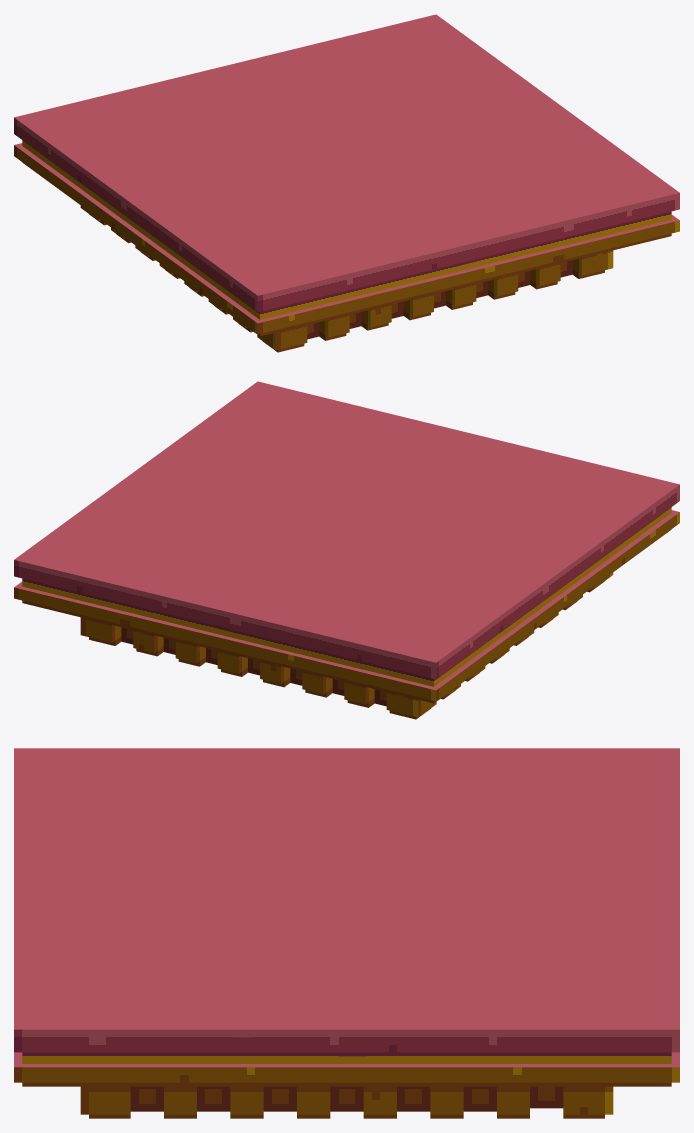
Rendered from mech_5x5ao.fezao.glb.
The picture shows the model from 3 angles, top to bottom: view 1: azimuth 30°, elevation 25°; view 2: azimuth 150°, elevation 25°; view 3: azimuth 270°, elevation 25°; orthographic projection. The views are drawn at different scales.
Parts seen in each view (by area): view 1: MECH_5x5AO; view 2: MECH_5x5AO; view 3: MECH_5x5AO.
Part boxes in pixels (box(x1,y1,x2,y2)): MECH_5x5AO: box(14, 14, 679, 352); MECH_5x5AO: box(14, 381, 679, 719); MECH_5x5AO: box(14, 748, 679, 1118).
Bounding box in the file's own units: 5 × 1.5 × 5.
Materials: 1 (1 with a texture image).
